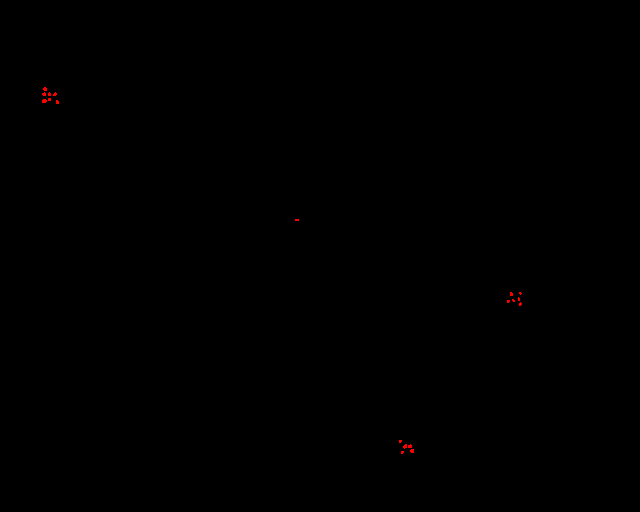Target: (42, 99, 47, 103), (403, 444, 407, 449), (43, 87, 47, 91), (42, 92, 46, 96), (53, 92, 57, 96), (408, 444, 412, 448), (410, 449, 414, 453), (48, 92, 51, 96), (56, 100, 59, 104), (510, 292, 513, 296), (519, 302, 522, 306), (48, 98, 51, 101), (519, 292, 522, 295), (512, 299, 515, 302), (507, 300, 510, 303), (399, 440, 402, 443), (401, 451, 404, 454), (295, 219, 299, 221), (518, 297, 520, 301)
